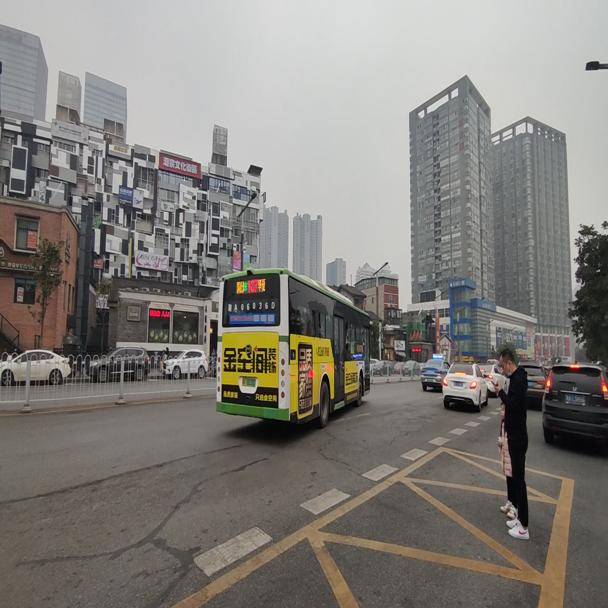bus: (215, 267, 378, 426)
screen: (247, 277, 258, 292)
